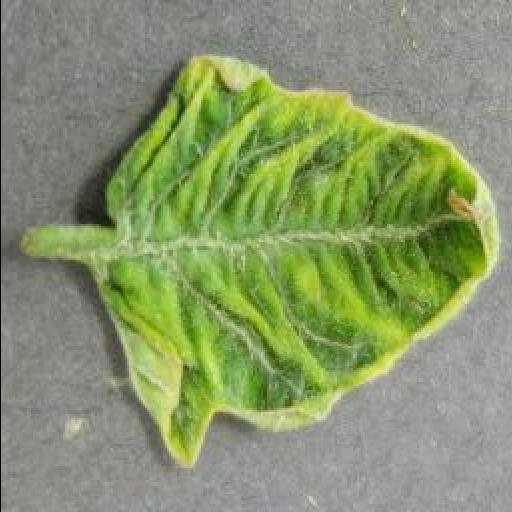disease_tomato: (94, 54, 504, 471)
